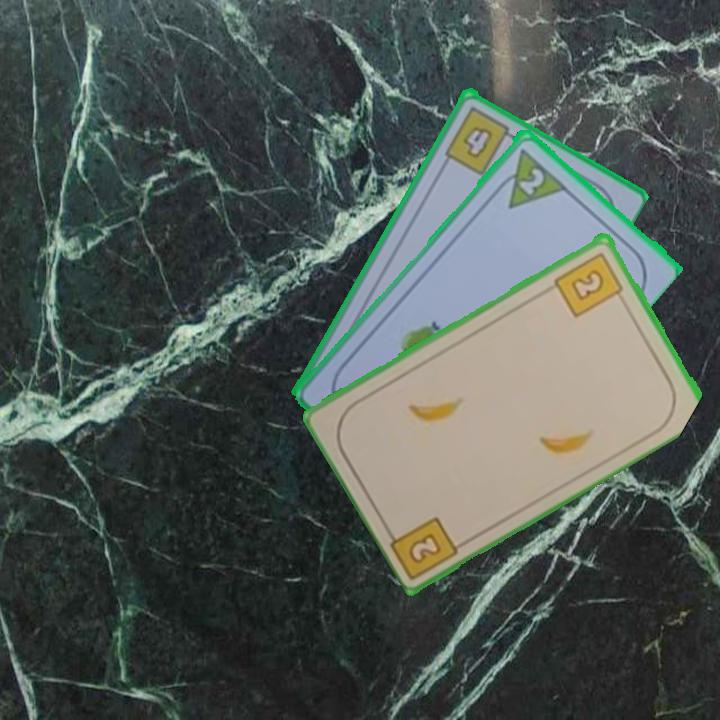2b: (551, 248, 628, 320), (404, 529, 445, 566)
2p: (515, 163, 547, 198)
4b: (441, 102, 520, 177)
